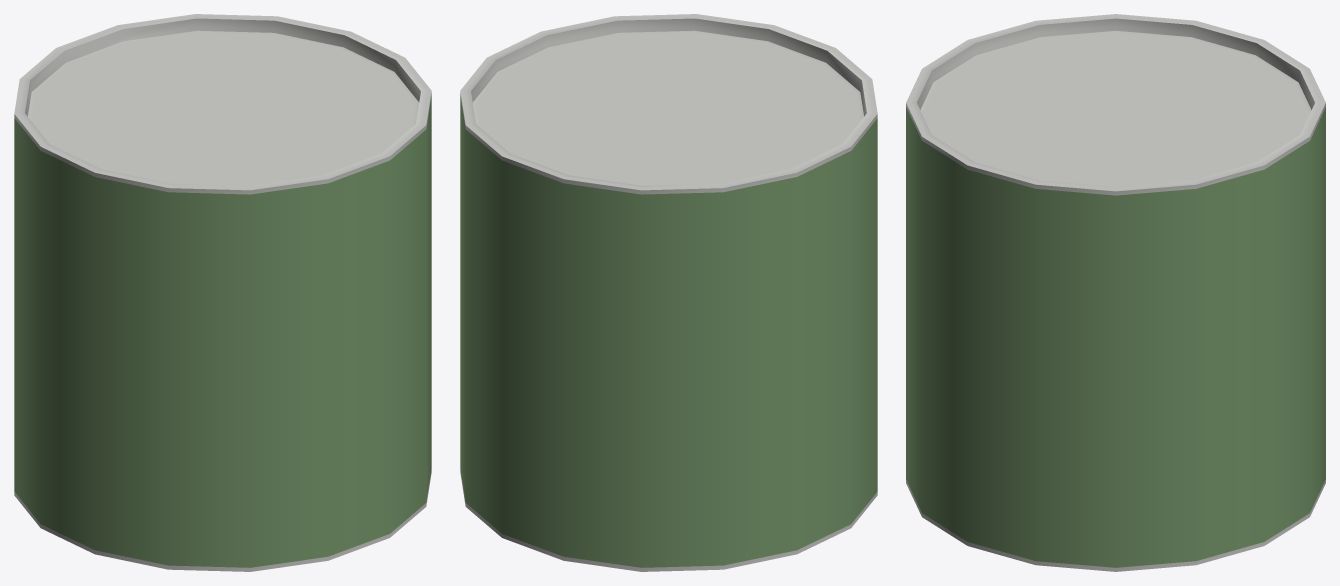
File: Product_CanGreen.fbx
The picture shows the model from 3 angles, left to right: view 1: azimuth 30°, elevation 25°; view 2: azimuth 150°, elevation 25°; view 3: azimuth 270°, elevation 25°; orthographic projection.
Parts seen in each view (by area): view 1: Product_CanGreen; view 2: Product_CanGreen; view 3: Product_CanGreen.
Boxes of the visible parts, x1,y1,x2,y2 form: Product_CanGreen: [14, 14, 431, 571]; Product_CanGreen: [460, 14, 877, 571]; Product_CanGreen: [906, 14, 1325, 571].
Size of the model in its own units: 0.0839 by 0.0839 by 0.0839.
